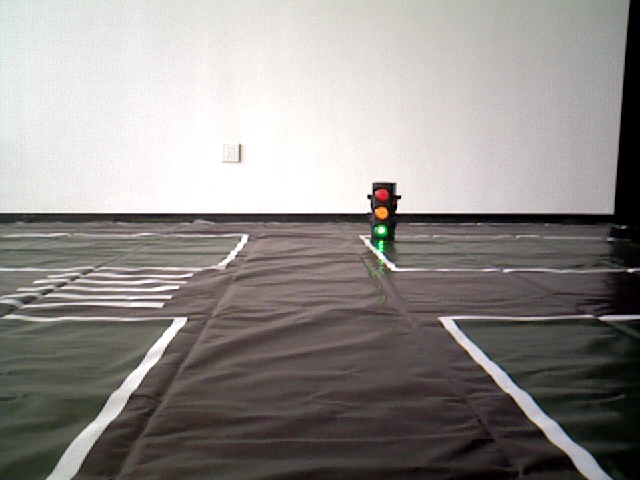green: (371, 181, 390, 238)
